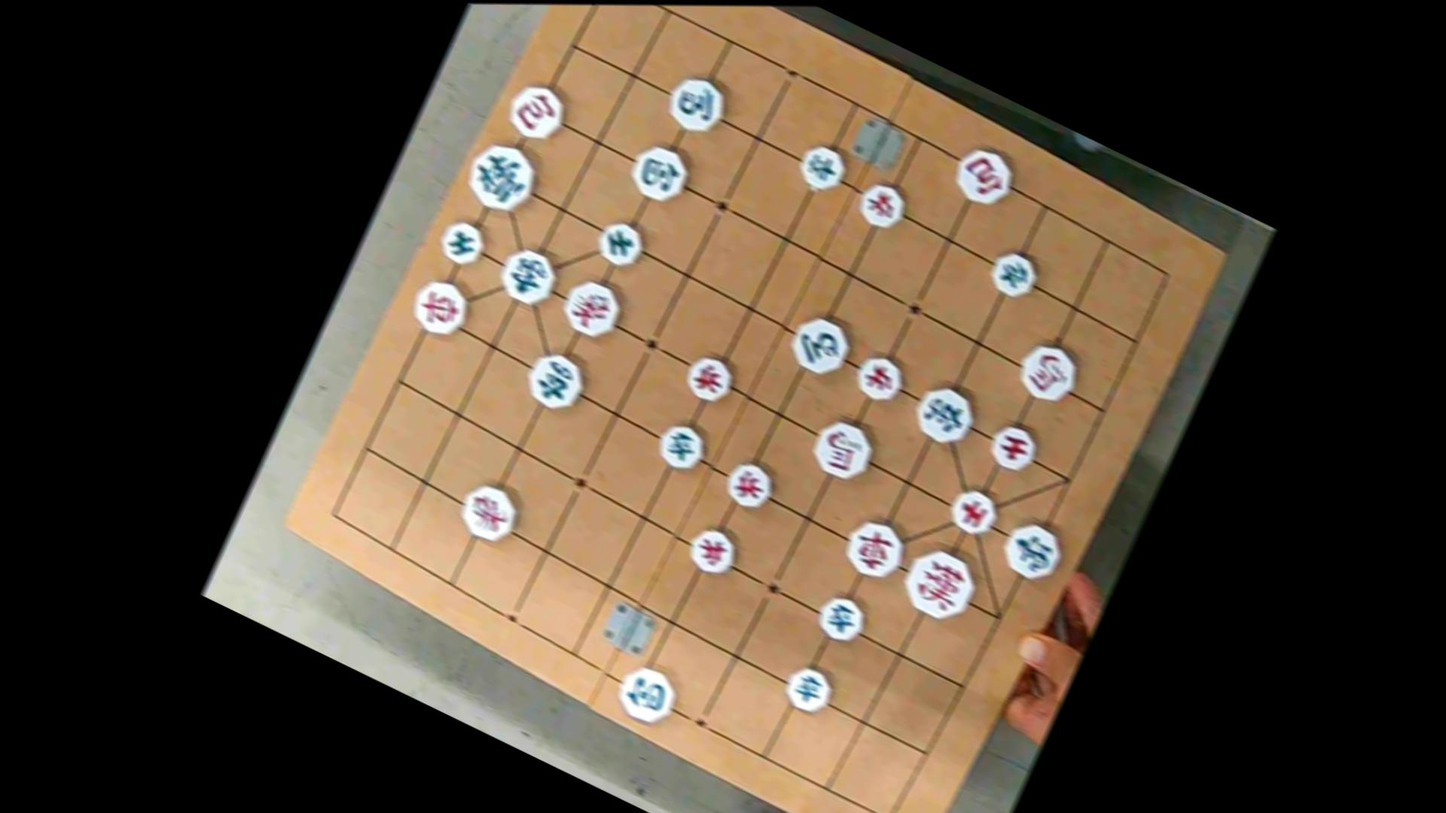cha_green: (907, 376, 981, 450), (518, 347, 590, 416)
cha_red: (834, 512, 908, 586), (405, 272, 475, 343)
jol_green: (649, 417, 711, 477), (794, 138, 853, 199), (778, 660, 837, 720), (812, 588, 871, 647), (985, 244, 1043, 303)
jol_red: (853, 175, 913, 236), (849, 349, 908, 408), (719, 458, 778, 517), (684, 522, 743, 581), (680, 349, 739, 407)
ma_green: (781, 310, 856, 384), (660, 69, 732, 141)
ma_red: (801, 413, 880, 489), (1011, 337, 1084, 410)
po_green: (608, 659, 685, 730), (623, 138, 695, 209)
po_red: (948, 143, 1017, 209), (501, 79, 569, 145)
sa_green: (590, 214, 650, 273), (432, 216, 490, 271)
sa_red: (944, 483, 1004, 542), (982, 418, 1041, 477)
sang_green: (491, 240, 563, 312), (998, 519, 1066, 584)
sang_red: (557, 272, 630, 345), (453, 478, 524, 547)
wang_green: (459, 136, 545, 224)
wang_red: (898, 546, 978, 622)
